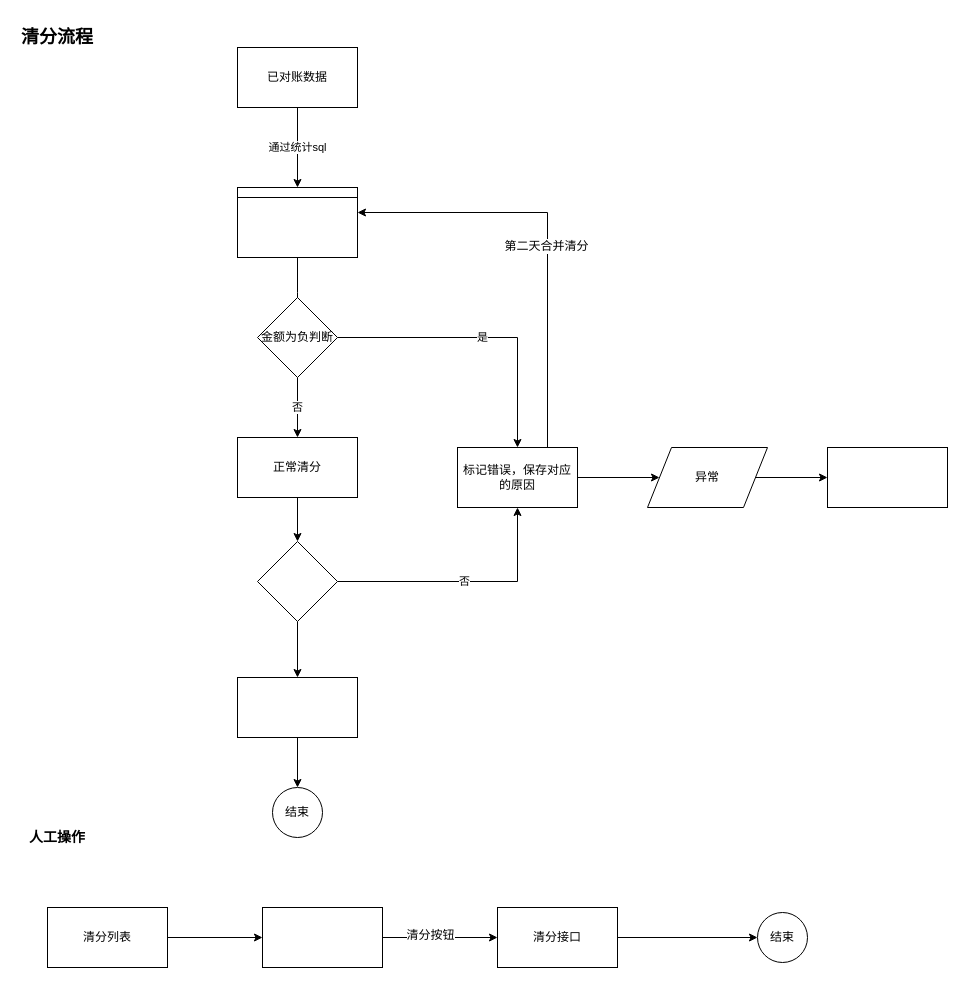
Image size: 965x985. Some labels were removed from this diagram. Each missing label, with the box of its shape:
对应状态标记: (236, 676, 358, 738)
清分失败账单: (262, 906, 382, 968)
清分是否成功: (256, 540, 338, 622)
短信通知对应医院负责人: (826, 446, 948, 508)
算出每家医院清分金额: (236, 196, 358, 258)
